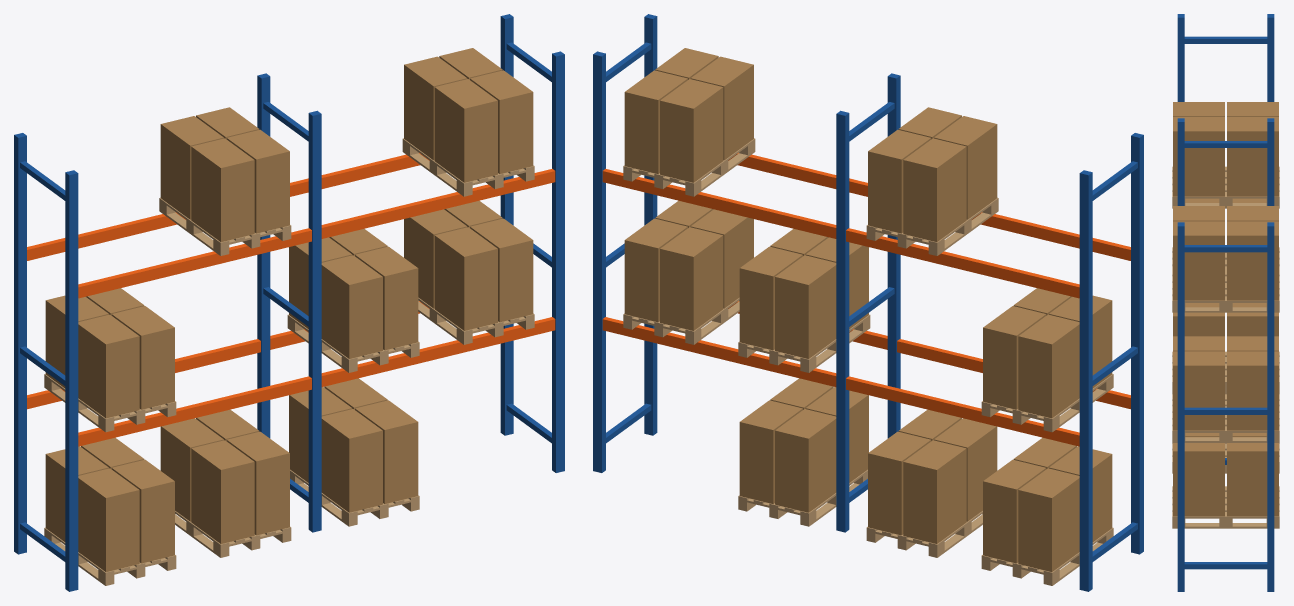
File: air-008.glb
The picture shows the model from 3 angles, left to right: view 1: azimuth 30°, elevation 25°; view 2: azimuth 150°, elevation 25°; view 3: azimuth 270°, elevation 25°; orthographic projection. The views are drawn at different scales.
Parts seen in each view (by area): view 1: cardboard, airline_blue, rim_orange, oak; view 2: cardboard, airline_blue, rim_orange, oak; view 3: cardboard, airline_blue, oak.
Boxes of the visible parts, x1,y1,x2,y2 form: cardboard: [45, 48, 533, 571]; airline_blue: [14, 14, 564, 591]; rim_orange: [27, 153, 555, 446]; oak: [44, 138, 534, 585]; cardboard: [624, 48, 1112, 571]; airline_blue: [593, 14, 1143, 591]; rim_orange: [602, 153, 1130, 446]; oak: [623, 138, 1113, 585]; cardboard: [1173, 102, 1278, 516]; airline_blue: [1177, 14, 1274, 591]; oak: [1172, 166, 1279, 528].
Bounding box in the file's own units: 5.6 × 4.5 × 1.2.
